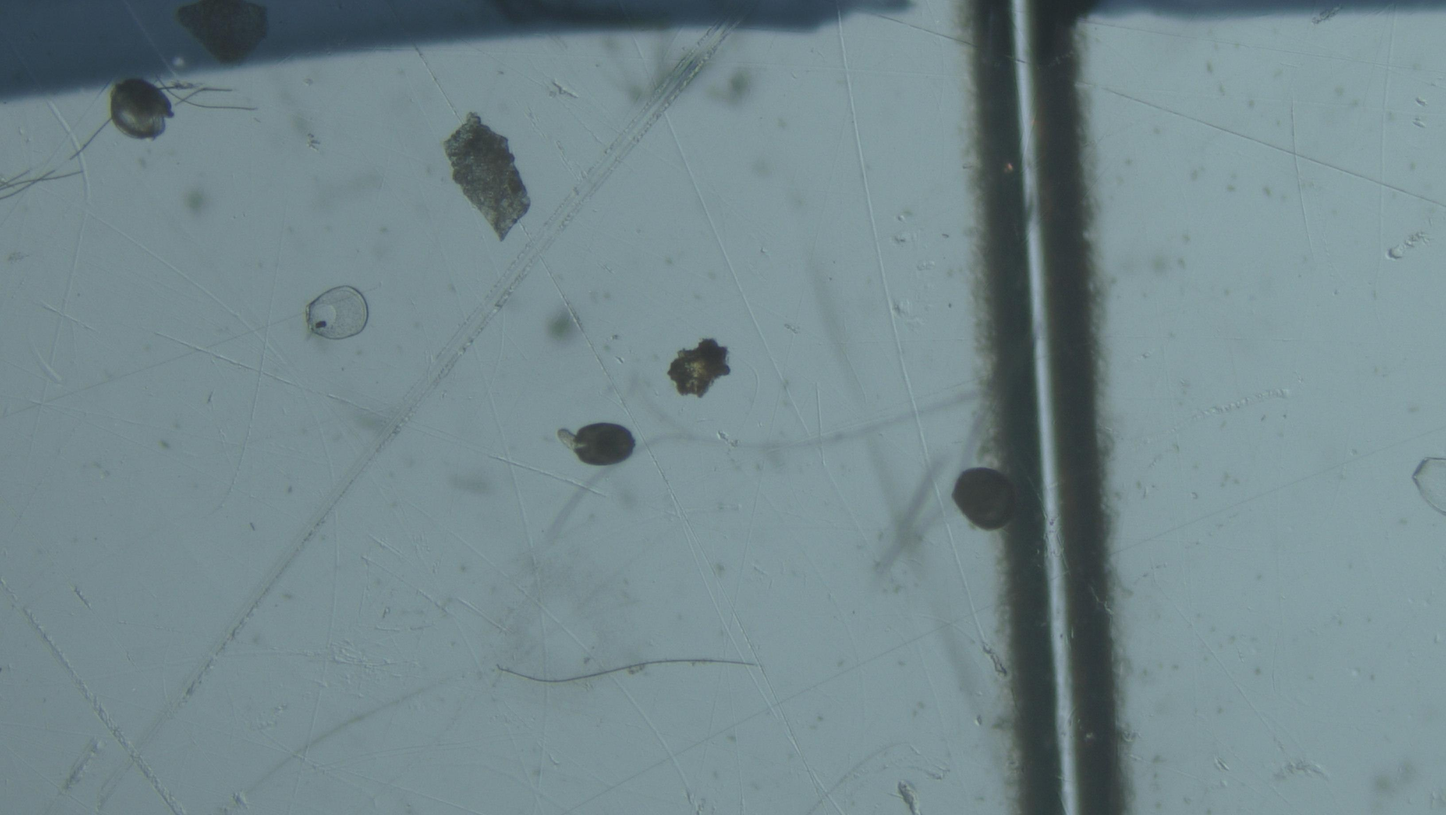dead: (307, 286, 369, 340)
live: (953, 468, 1018, 531), (110, 79, 174, 139), (557, 423, 636, 466)
